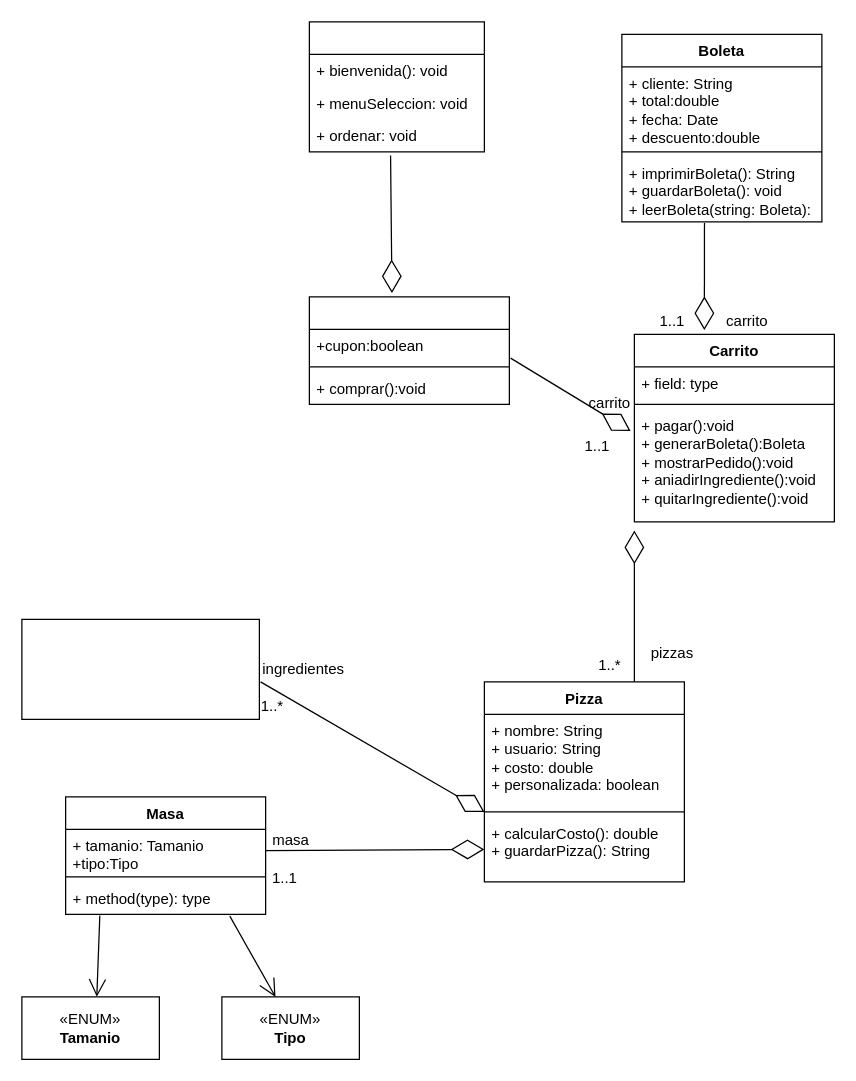
The diagram is 856 pixels wide and 1081 high, and some of its shapes have lost their labels. Here are the shapes that lost their labels. From the top down, the box of each, then its label:
(308, 21, 484, 152): Main
(308, 296, 509, 404): Orden
(21, 618, 259, 719): <<Interface>> Ingredientes + nombre: String + precio: double
